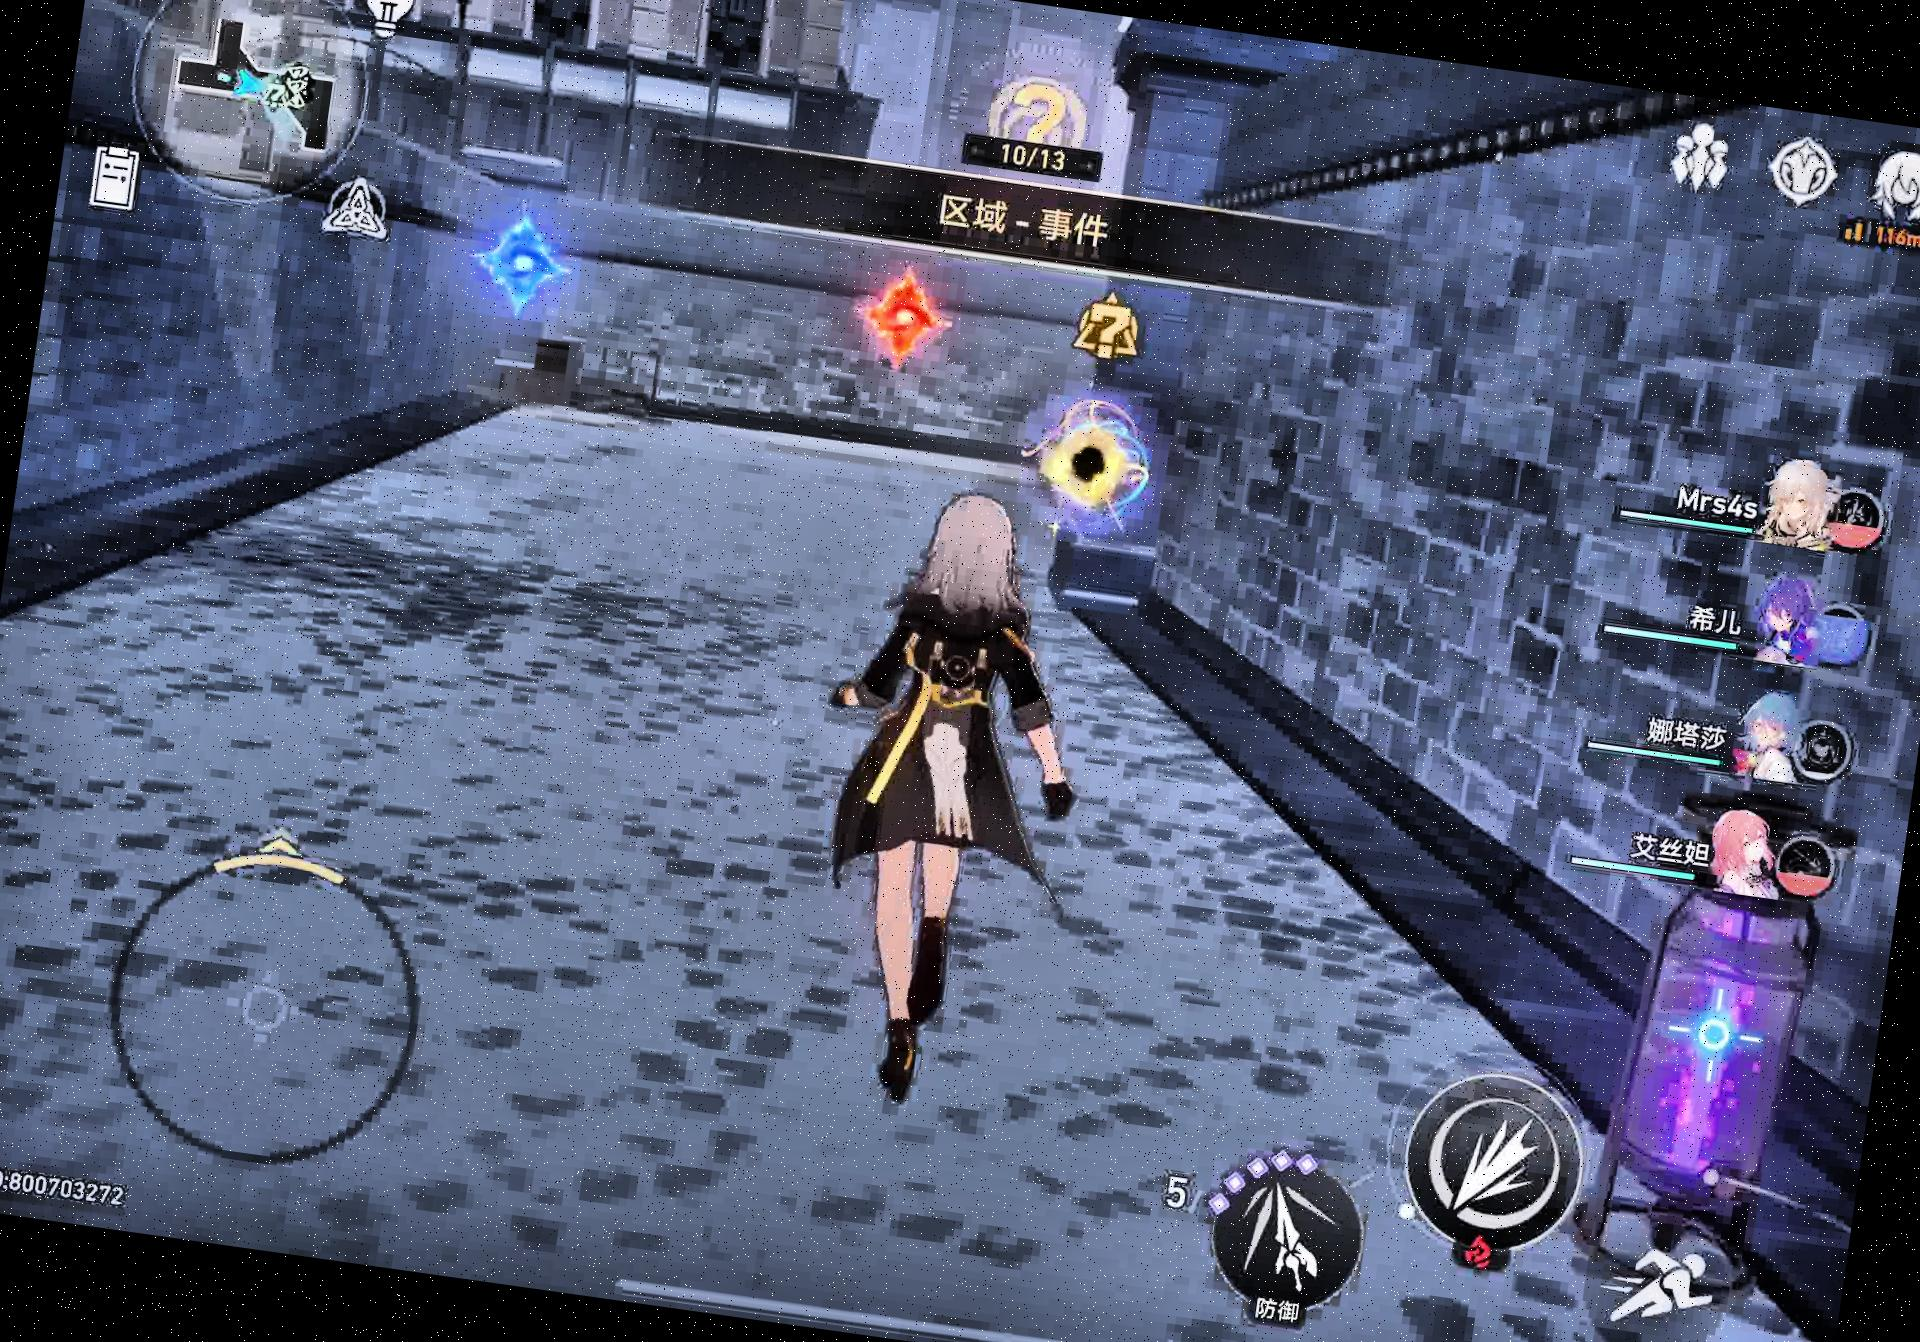BattleDoor: (851, 263, 964, 387)
EventDoor: (461, 201, 582, 333)
EventStar: (1018, 385, 1158, 531)
Self: (776, 478, 1107, 1138)
